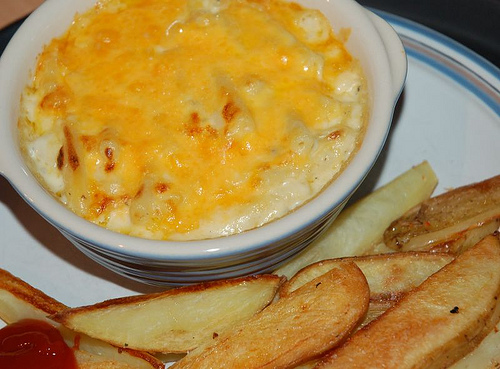macncheese: (26, 1, 377, 249)
